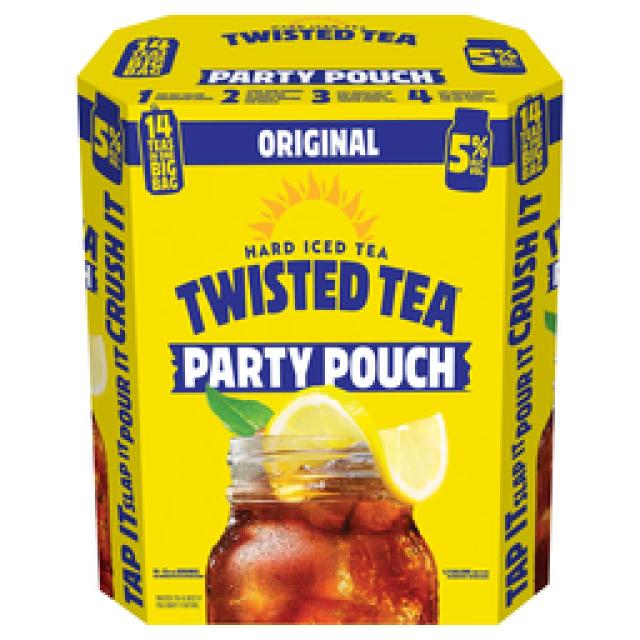tea-bags: (78, 15, 560, 622)
